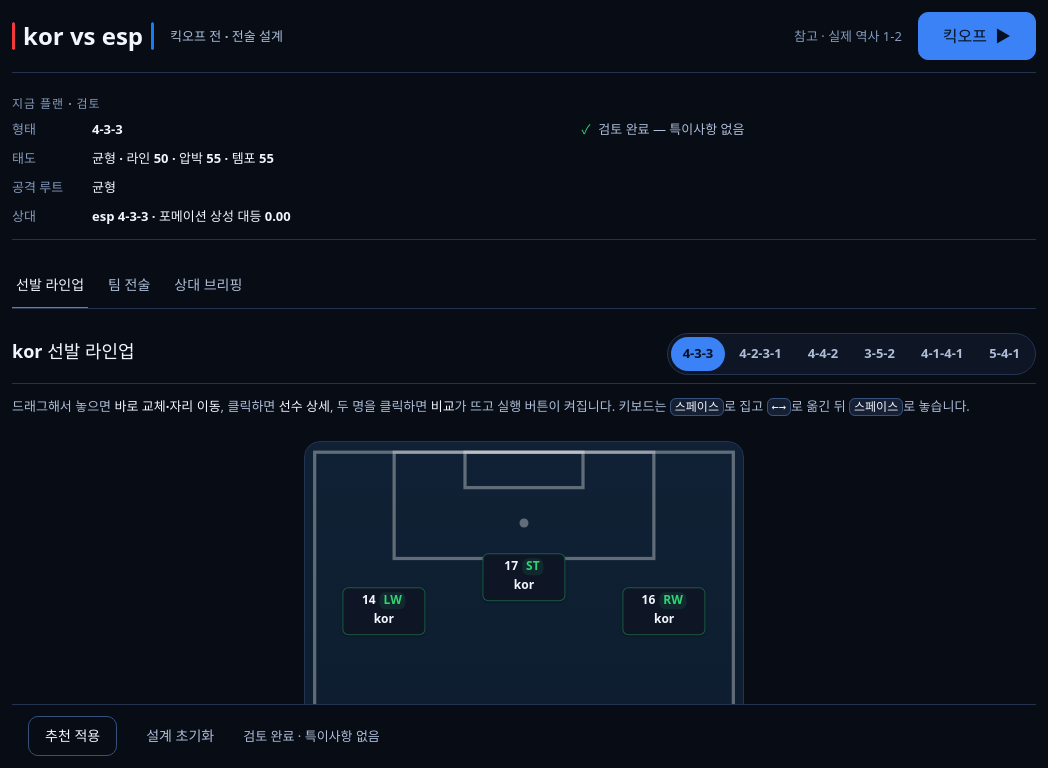
it: TacticsCenter — 킥오프 전 워룸 › 멘탈리티·공격 패턴이 활성이고 요약이 즉시 갱신된다
Click the tab "팀 전술".
click(129, 286)  # box [104,264,154,308]
(page scrolled)
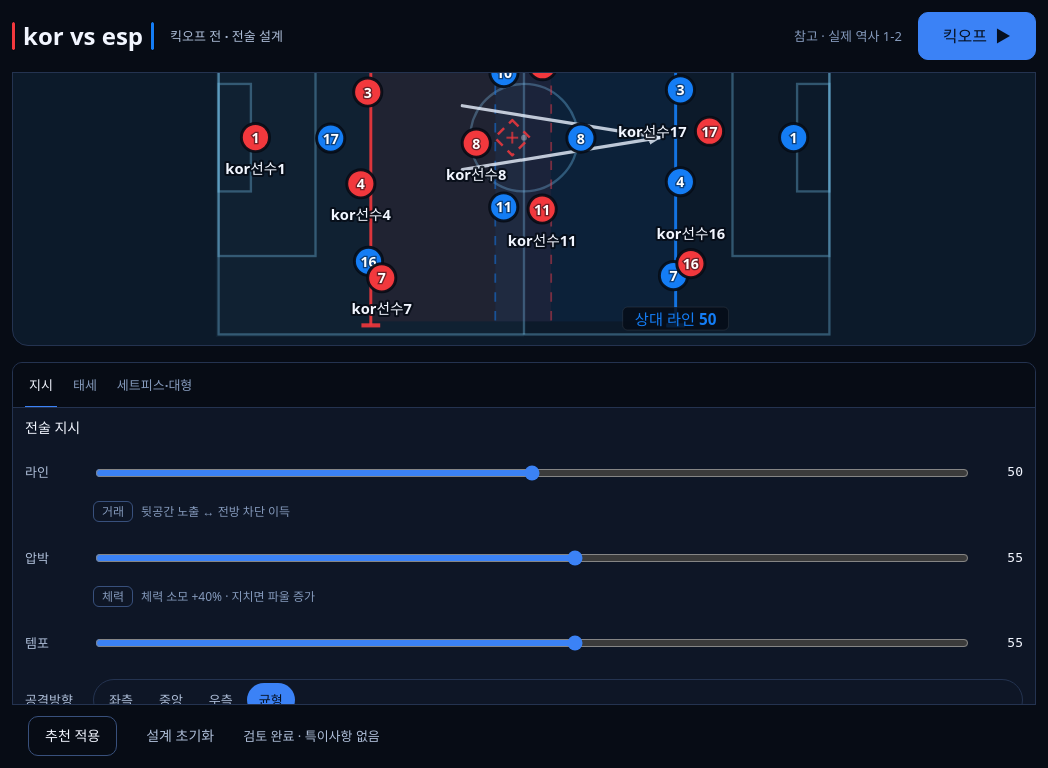
Click the tab with class "tw-tab" showing "태세".
click(85, 385)  # box [69,363,101,407]
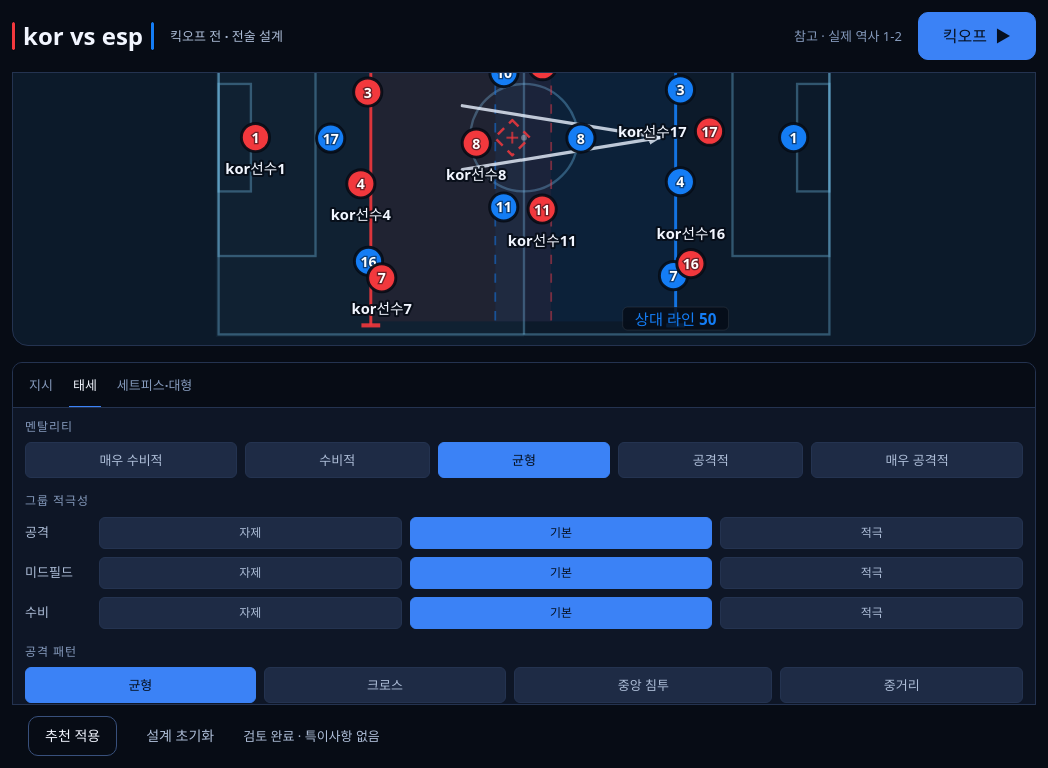
Now the button "공격적" is enabled
Click the button "공격적".
click(711, 460)  # box [618,442,803,478]
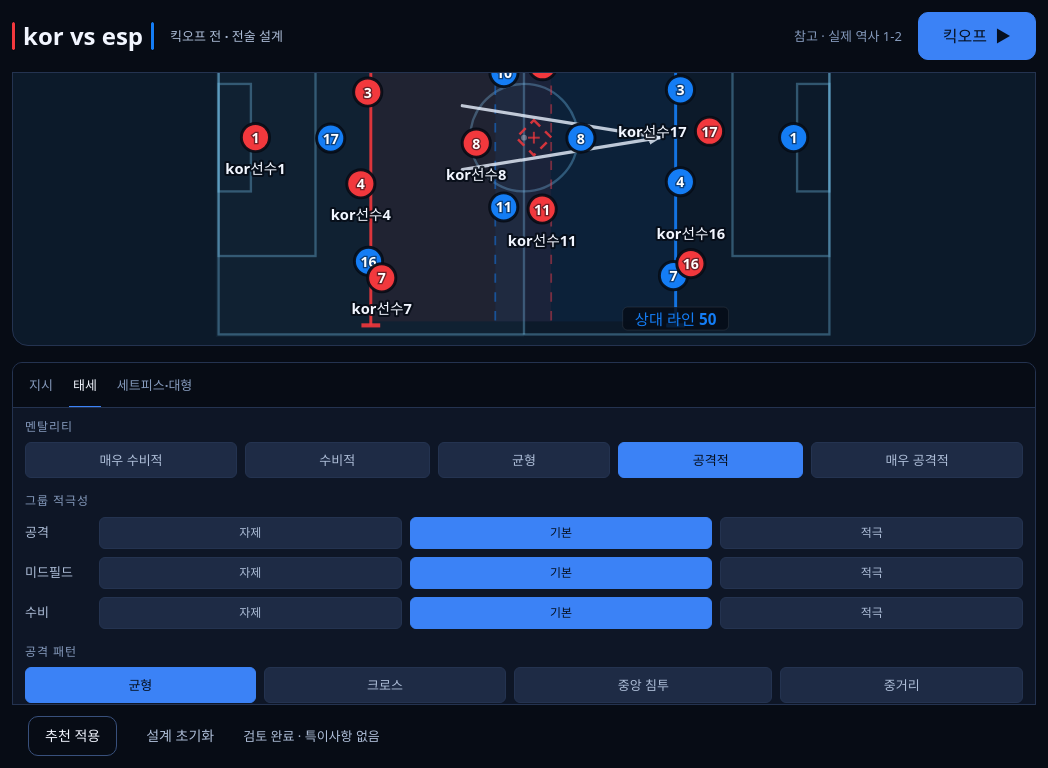
Click the button "크로스".
click(385, 685)  # box [264,667,506,703]
(page scrolled)
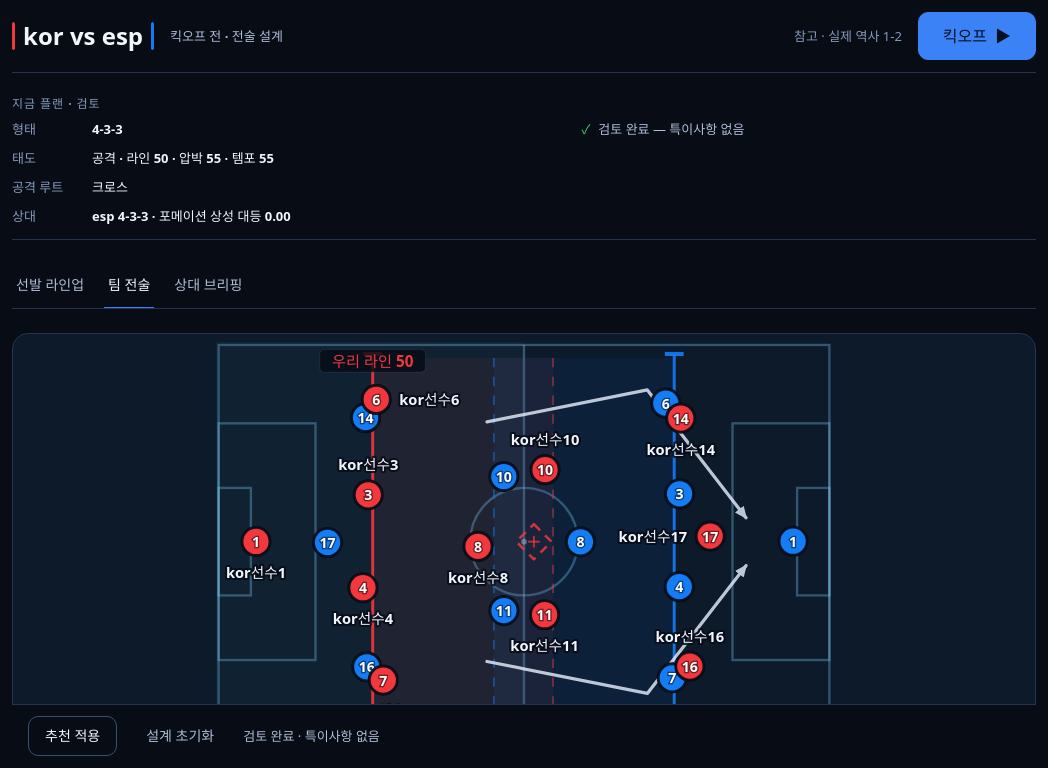
Now the element with class "tc-summary" shows "크로스", box [92,178,128,196]
